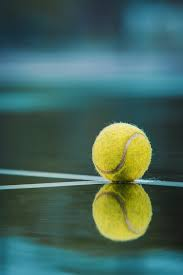tennis_ball: (91, 121, 154, 182), (92, 183, 153, 242)
